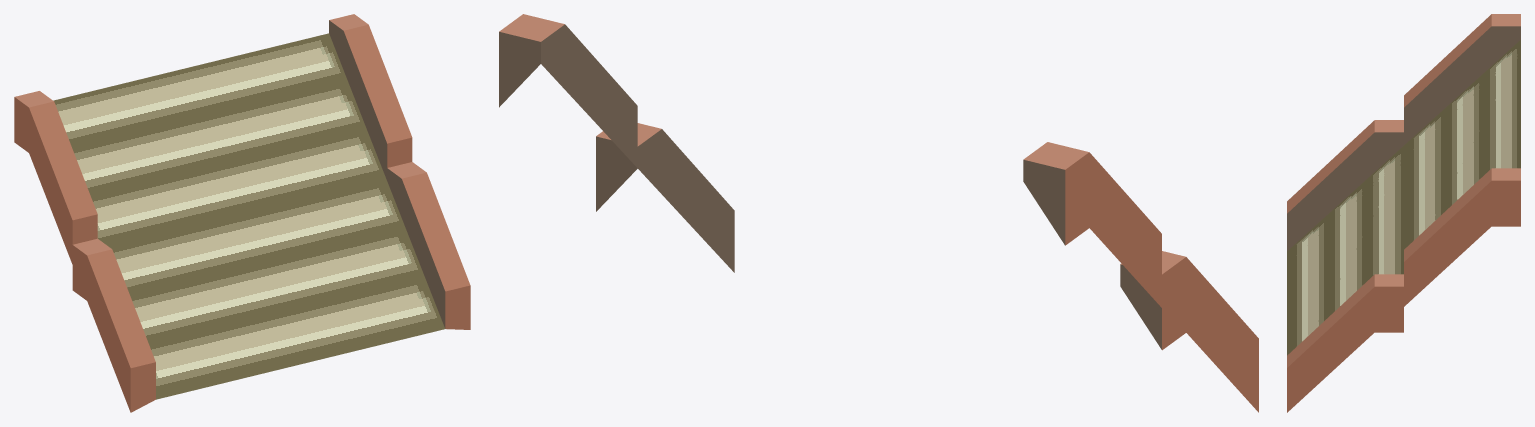
The picture shows the model from 3 angles, left to right: view 1: azimuth 30°, elevation 25°; view 2: azimuth 150°, elevation 25°; view 3: azimuth 270°, elevation 25°; orthographic projection. The views are drawn at different scales.
Bounding box in the file's own units: 3.38 × 2.19 × 2.
Materials: 1 (1 with a texture image).
